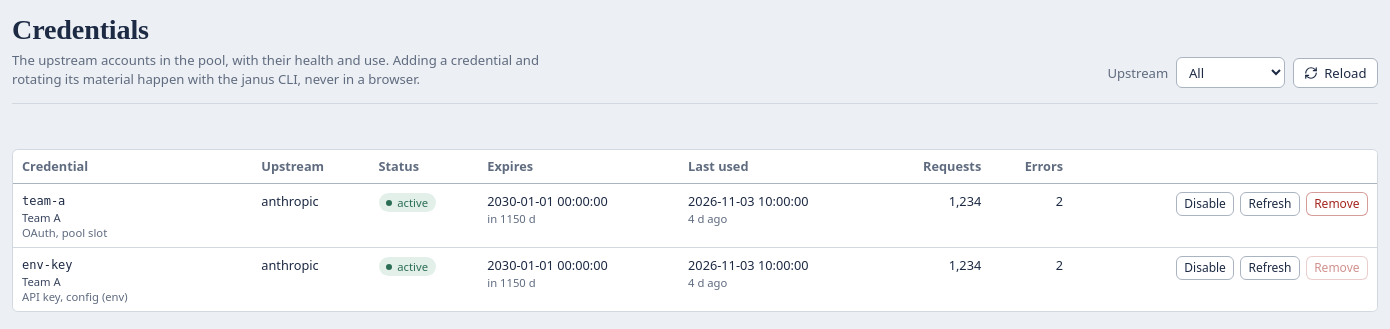
Credentials view › removes a pool credential only after confirmation, and not a config-defined one
Expected: the button "Remove" in the row of "env-key" is disabled, [1306, 256, 1368, 280]
Click the button "Remove" in the row of "team-a". click: (1337, 204)
box: [1306, 192, 1368, 216]
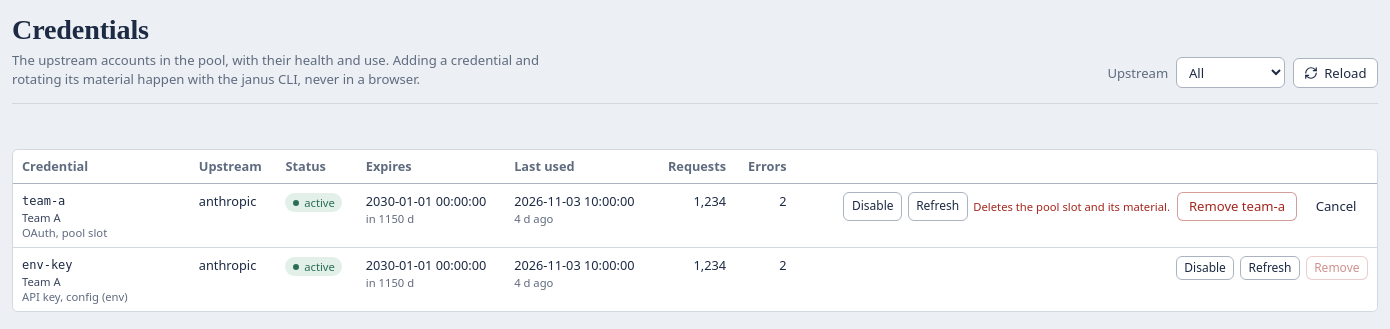
Click the button "Cancel". click: (1336, 206)
box: [1304, 192, 1368, 221]
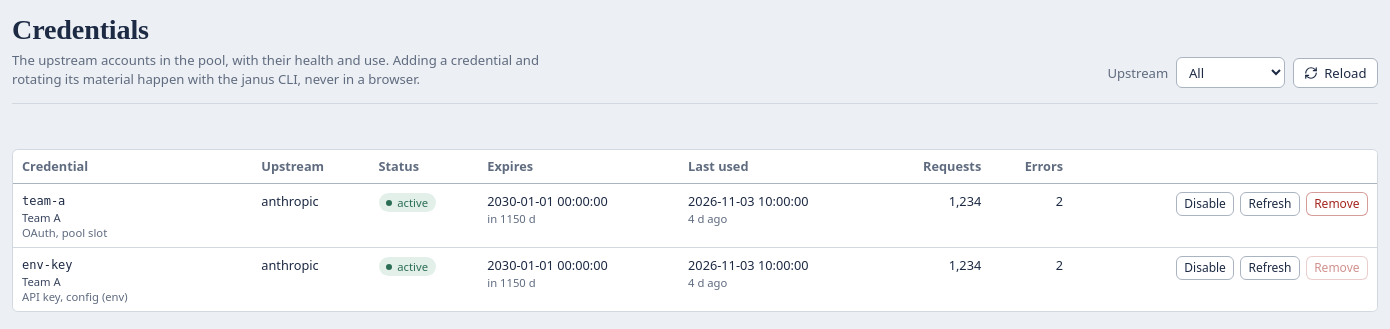
Click the button "Remove" in the row of "team-a". click: (1337, 204)
box: [1306, 192, 1368, 216]
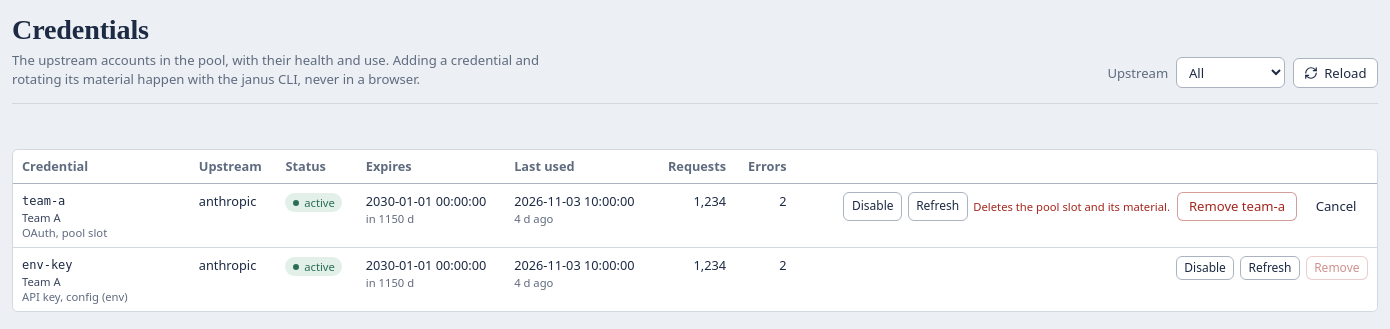
Click the button "Remove team-a". click: (1237, 206)
box: [1177, 192, 1297, 221]
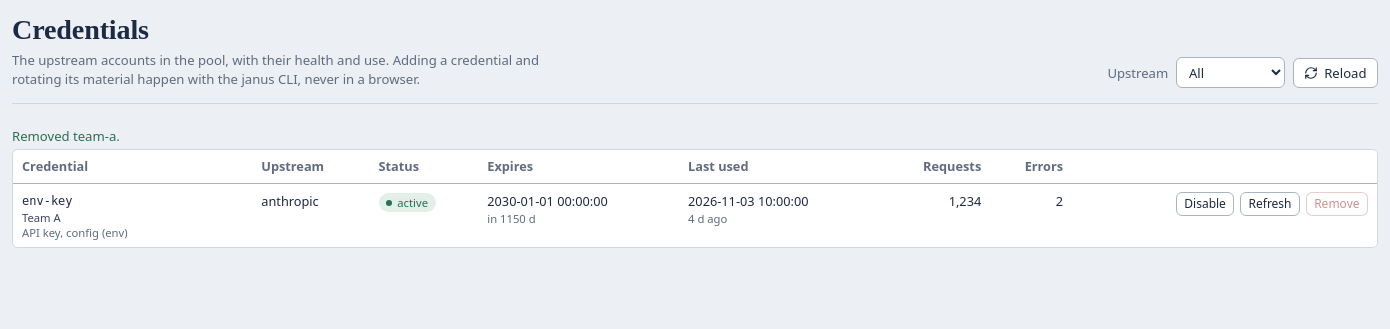
Result: the text "Removed team-a." is shown at [12, 127, 120, 145]
